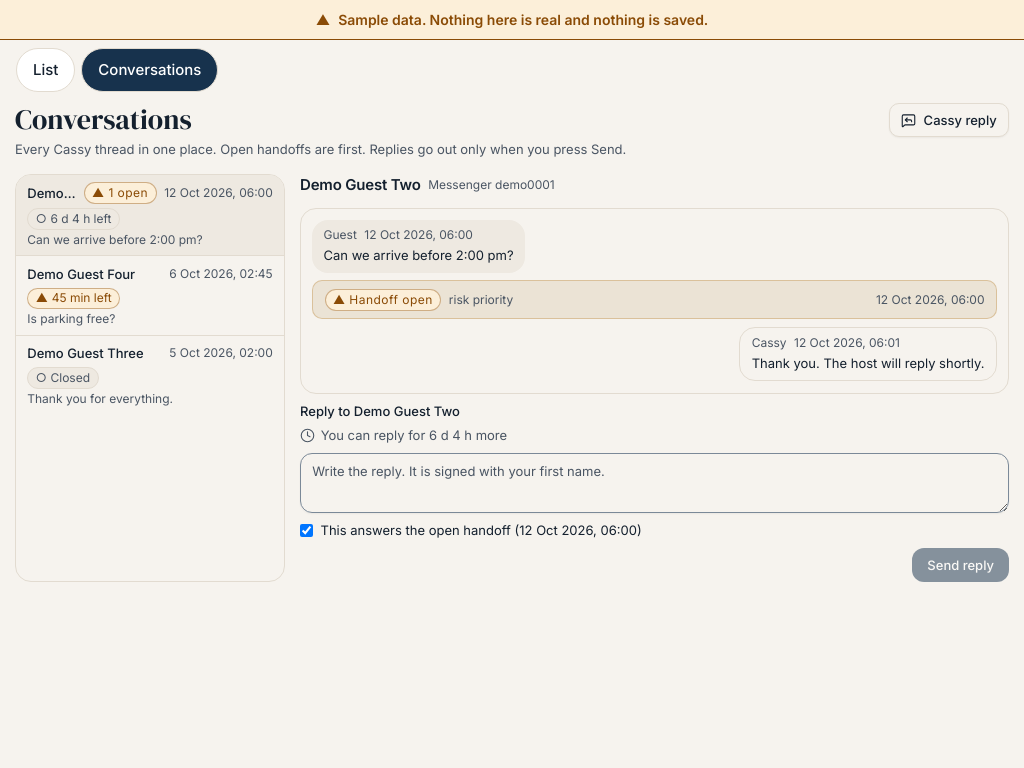
Test: D_demo writes › a demo Send says nothing was sent, and never "Reply sent"
In the text box labelled "Reply to Demo Guest Two": {"x": 654, "y": 483} [300,453,1009,513], type "See you at 2:00 pm"
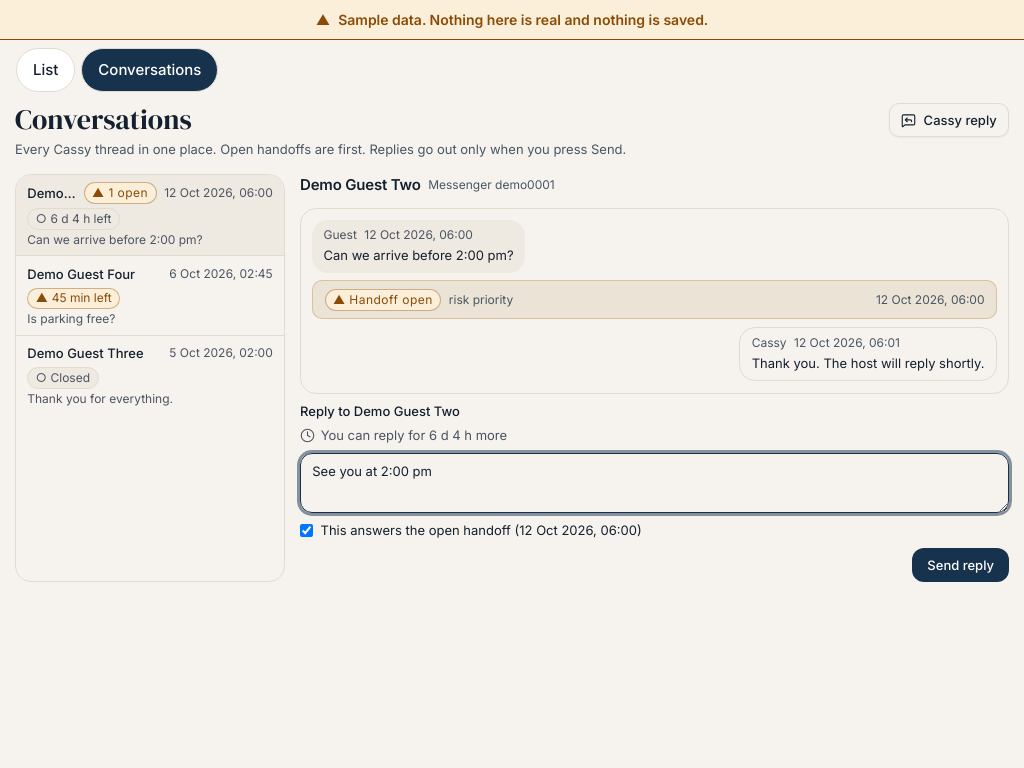
Click the button "Send reply": {"x": 961, "y": 565} [912,548,1009,582]
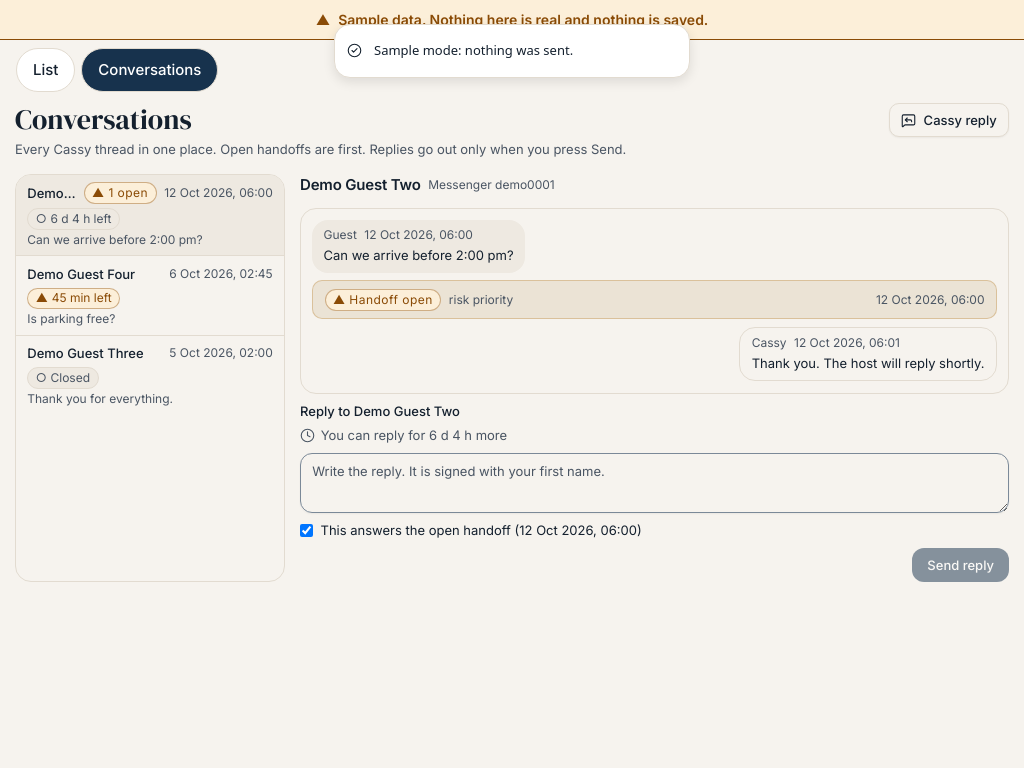
expect the text "Sample mode: nothing was sent." is shown: met, box [374,41,573,60]
